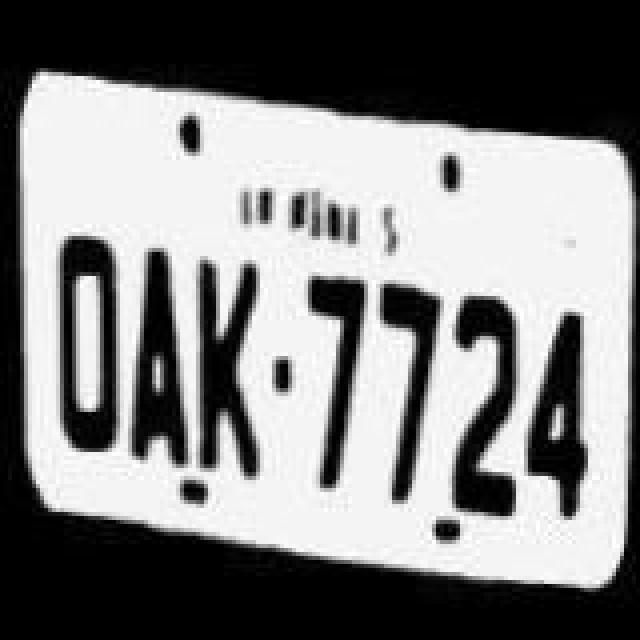2: (448, 282, 528, 526)
4: (524, 304, 596, 528)
7: (296, 262, 376, 502), (368, 274, 448, 510)
A: (120, 228, 196, 480)
K: (190, 248, 270, 488)
O: (38, 222, 126, 474)
